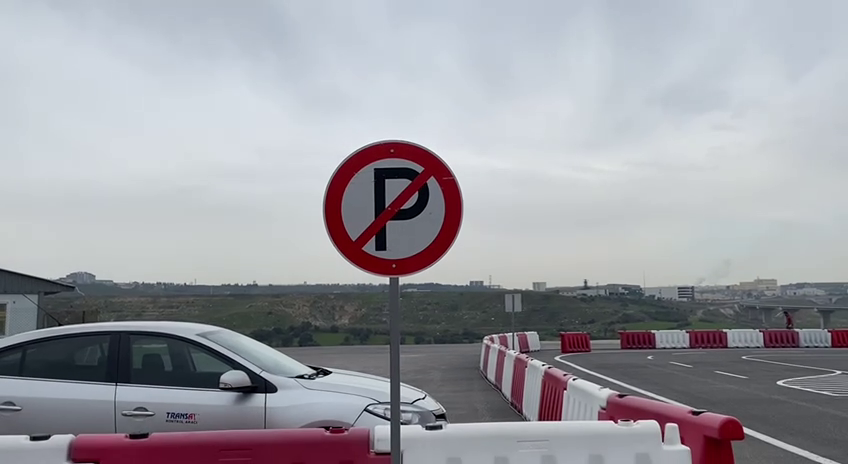noparking: (315, 131, 472, 285)
